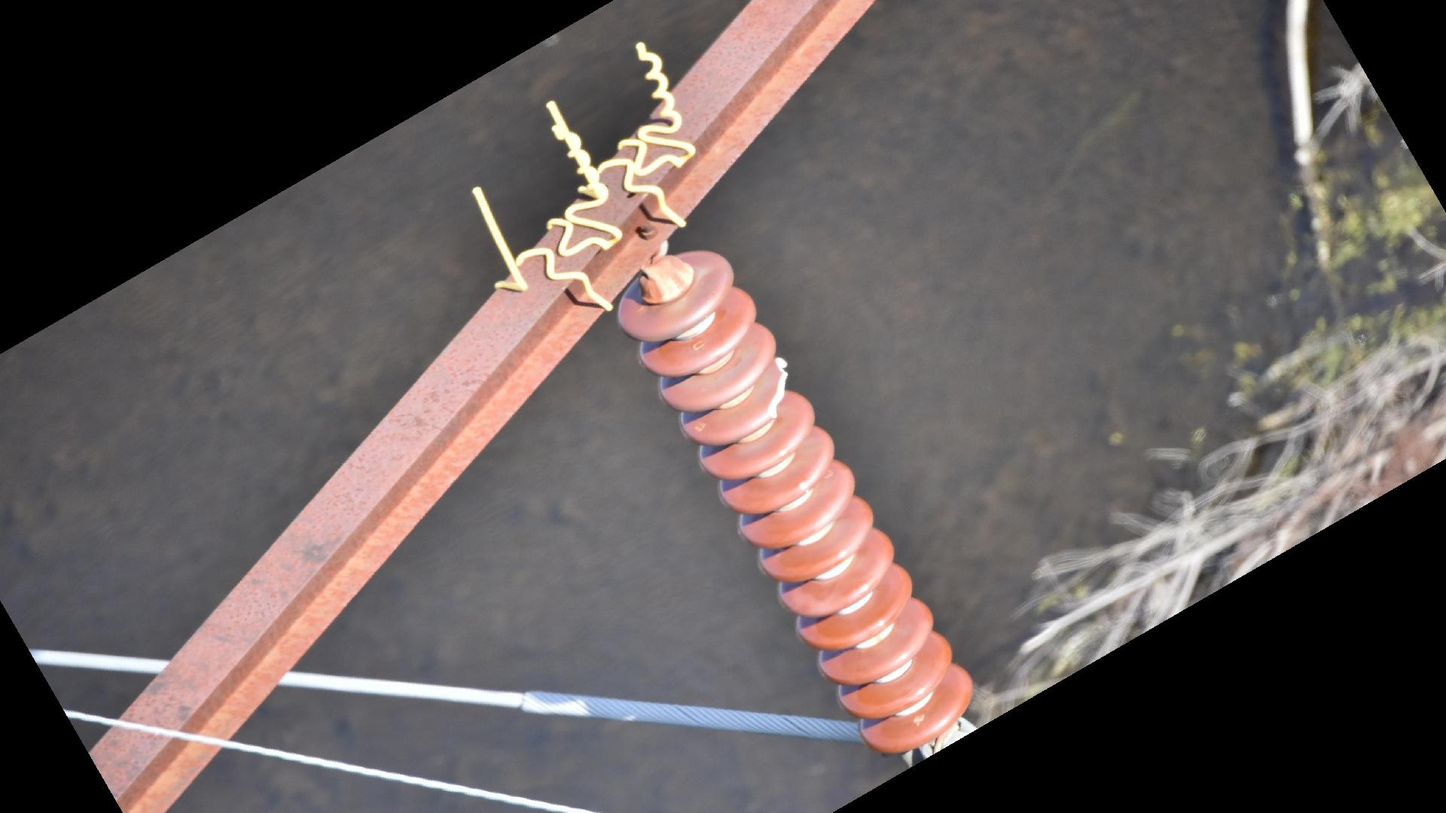insulator: (613, 246, 980, 758)
insulator_breakage: (765, 353, 794, 424)
